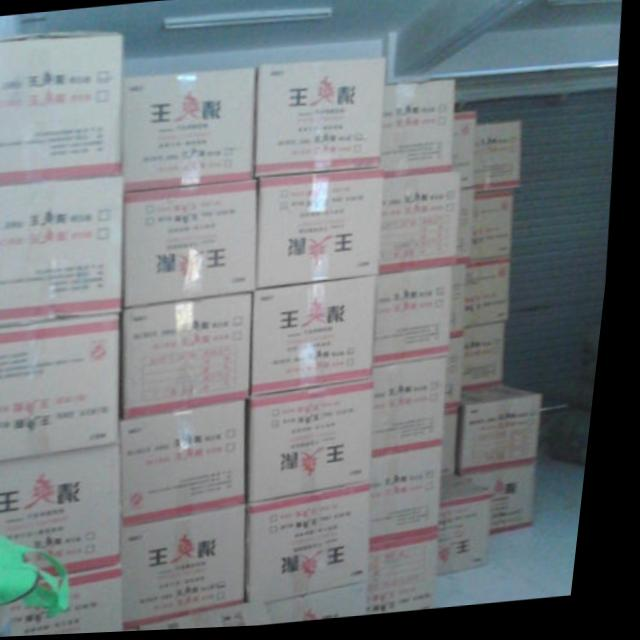box: (0, 32, 125, 187), (0, 178, 129, 327), (0, 316, 128, 463), (0, 446, 133, 579), (128, 182, 262, 308), (129, 296, 259, 421), (125, 71, 258, 193), (131, 402, 257, 528), (258, 60, 389, 180), (258, 384, 383, 507), (136, 507, 259, 632), (259, 279, 385, 399), (257, 489, 382, 608), (263, 173, 386, 292), (387, 178, 466, 279), (25, 566, 137, 637), (382, 271, 461, 370), (383, 361, 458, 461), (468, 391, 551, 480), (385, 84, 457, 182), (382, 451, 455, 547), (449, 478, 503, 580), (384, 539, 452, 619), (472, 469, 546, 540), (280, 587, 381, 627), (154, 605, 286, 633), (480, 125, 527, 196), (474, 195, 520, 266), (469, 327, 515, 397), (473, 262, 518, 333), (457, 117, 481, 194), (456, 338, 473, 409), (459, 269, 475, 341), (454, 408, 470, 479), (464, 194, 479, 267)
